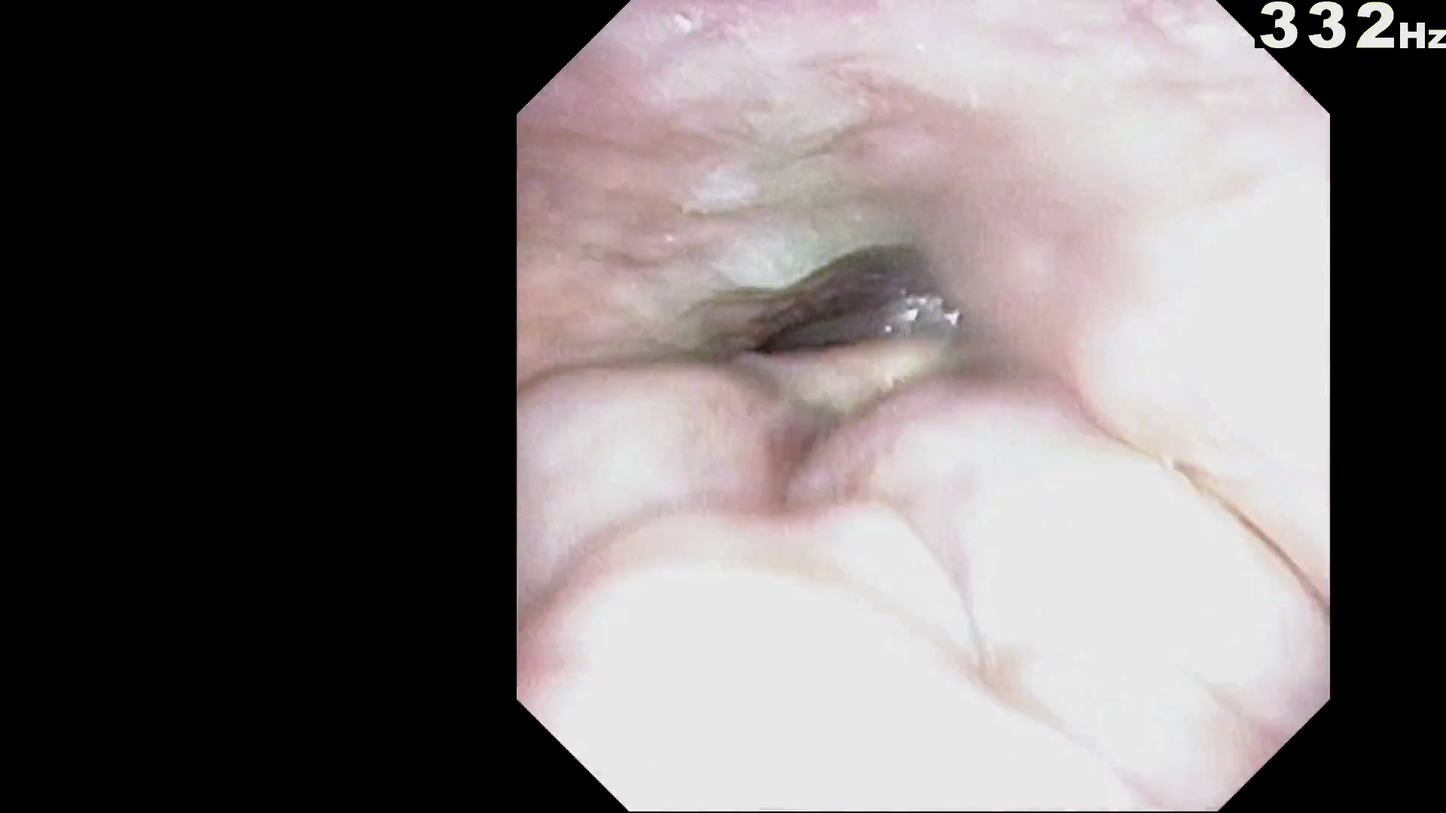epiglottis: (670, 365, 1083, 469)
